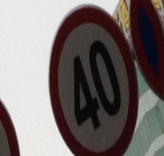Speed limit: (43, 27, 142, 148)
